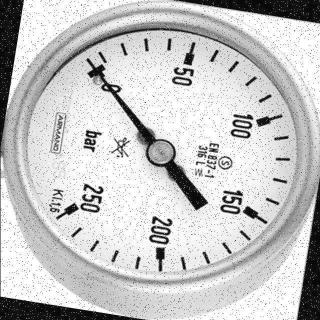gauge: (0, 0, 320, 295), (146, 138, 176, 168), (80, 55, 108, 83), (58, 195, 90, 219), (82, 55, 96, 70)
